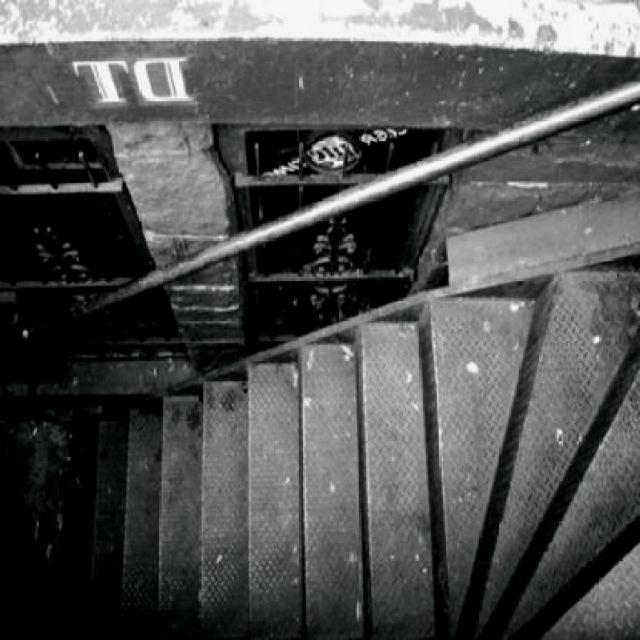stair: (85, 255, 640, 638)
